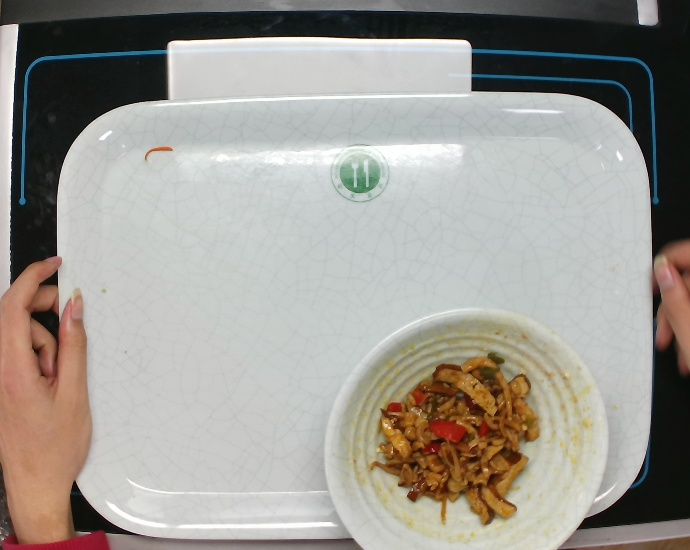JYsf-Xiao_Tang_Wan: (320, 305, 613, 550)
